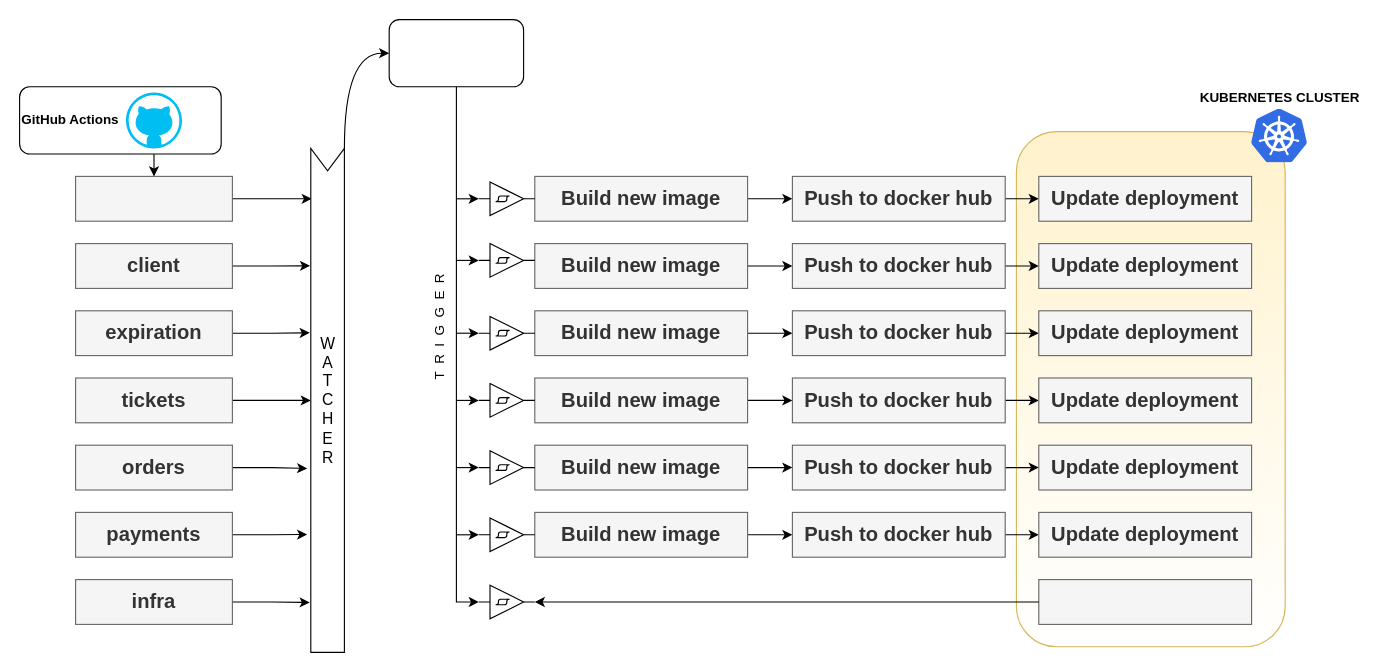
The diagram is 1389 pixels wide and 672 high, and some of its shapes have lost their labels. Each missing label, with the centre of its shape:
"Apply all yaml files" goes at [1145,601].
"auth" goes at [153,198].
"On Any Change in the respective folder" goes at [456,52].
